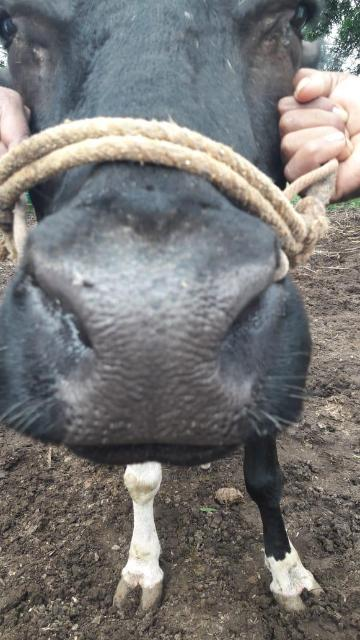Muzzle: (37, 232, 263, 458)
